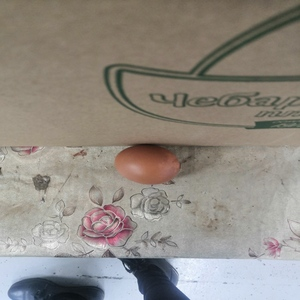brown egg: (113, 143, 183, 186)
